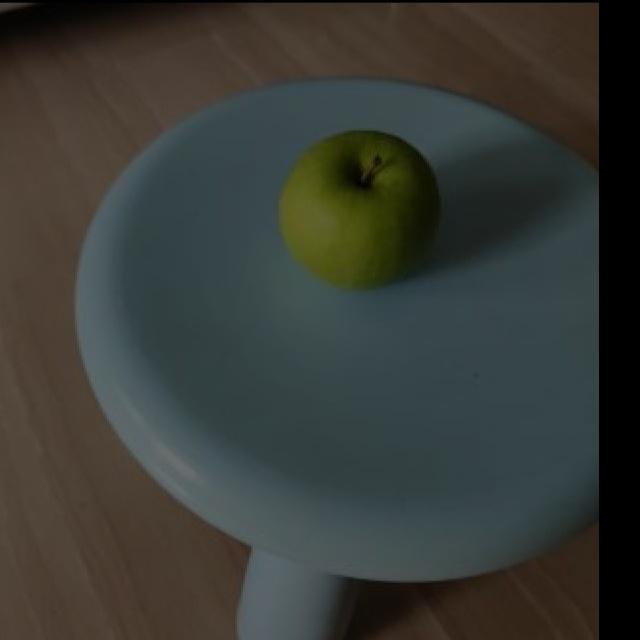green apple: (272, 129, 440, 292)
